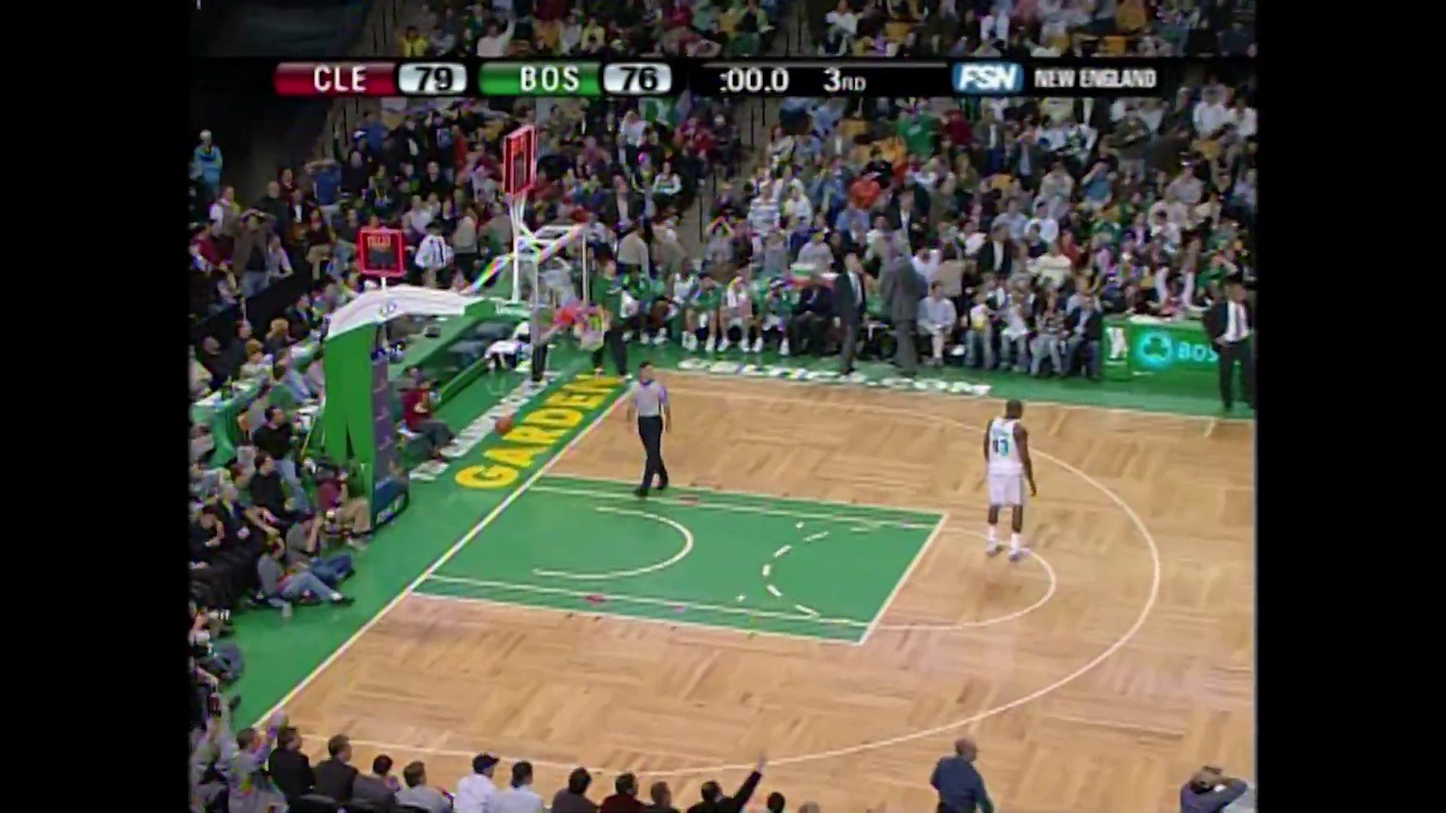basket_hoop: (478, 215, 631, 366)
